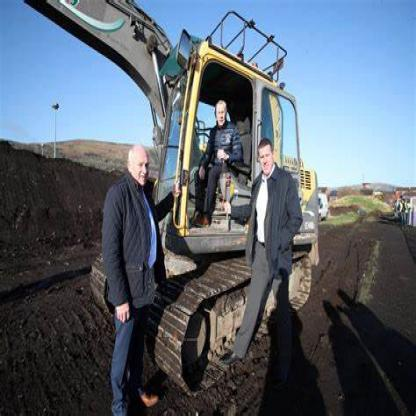person: (86, 137, 165, 409), (244, 128, 311, 395)
